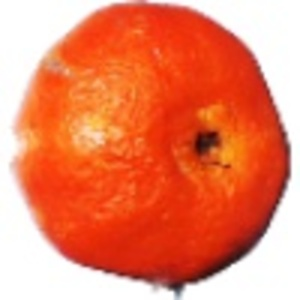tangerina: (1, 1, 293, 300)
